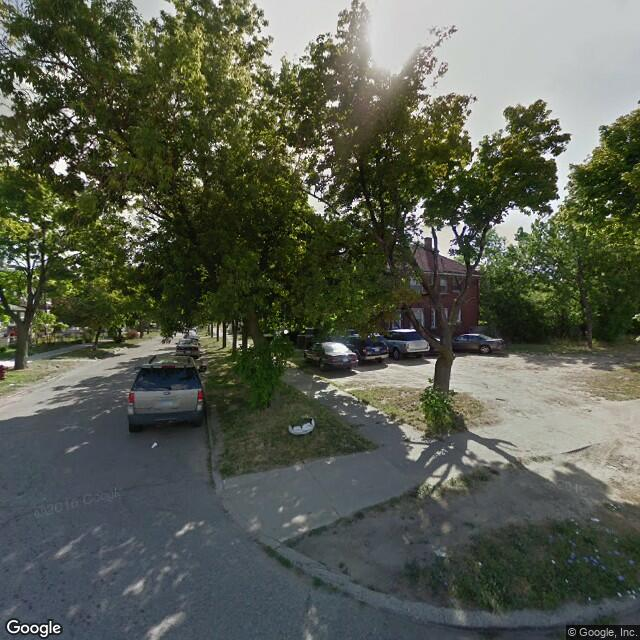litter: (580, 540, 600, 572), (285, 417, 315, 436), (608, 533, 626, 553), (585, 596, 605, 611), (623, 586, 640, 601), (608, 572, 633, 582), (148, 439, 164, 454), (589, 510, 600, 526), (566, 535, 575, 553), (546, 557, 560, 567), (471, 554, 479, 570)
